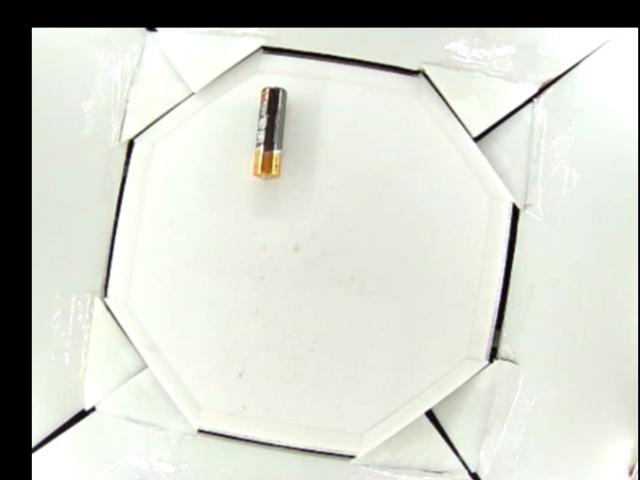Battery: (252, 85, 287, 180)
